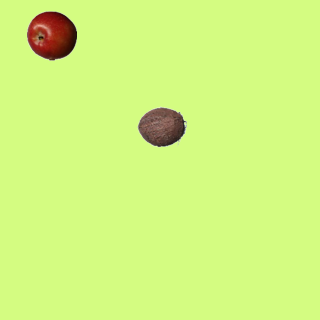Apple Braeburn: (26, 10, 76, 60)
Cocos: (136, 101, 186, 151)
